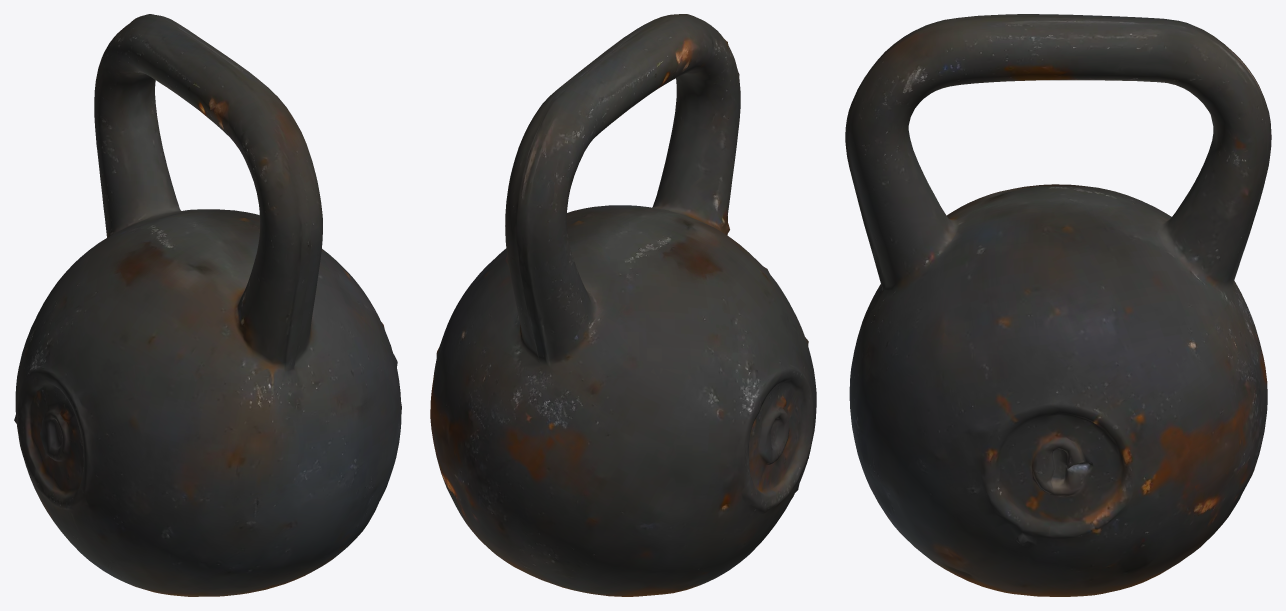
Rendered from prop-kettlebell.glb.
The picture shows the model from 3 angles, left to right: view 1: azimuth 30°, elevation 25°; view 2: azimuth 150°, elevation 25°; view 3: azimuth 270°, elevation 25°; orthographic projection. The views are drawn at different scales.
Visible parts, largest first — view 1: tripo_node_9397b509-04ac-4502-951d-cbfa62059bf1; view 2: tripo_node_9397b509-04ac-4502-951d-cbfa62059bf1; view 3: tripo_node_9397b509-04ac-4502-951d-cbfa62059bf1.
Boxes of the visible parts, box(x1,y1,x2,y2) form: tripo_node_9397b509-04ac-4502-951d-cbfa62059bf1: box(14, 14, 401, 596); tripo_node_9397b509-04ac-4502-951d-cbfa62059bf1: box(430, 14, 816, 596); tripo_node_9397b509-04ac-4502-951d-cbfa62059bf1: box(845, 14, 1271, 596).
Bounding box in the file's own units: 0.6393 × 0.9999 × 0.7082.
Materials: 1 (1 with a texture image).
